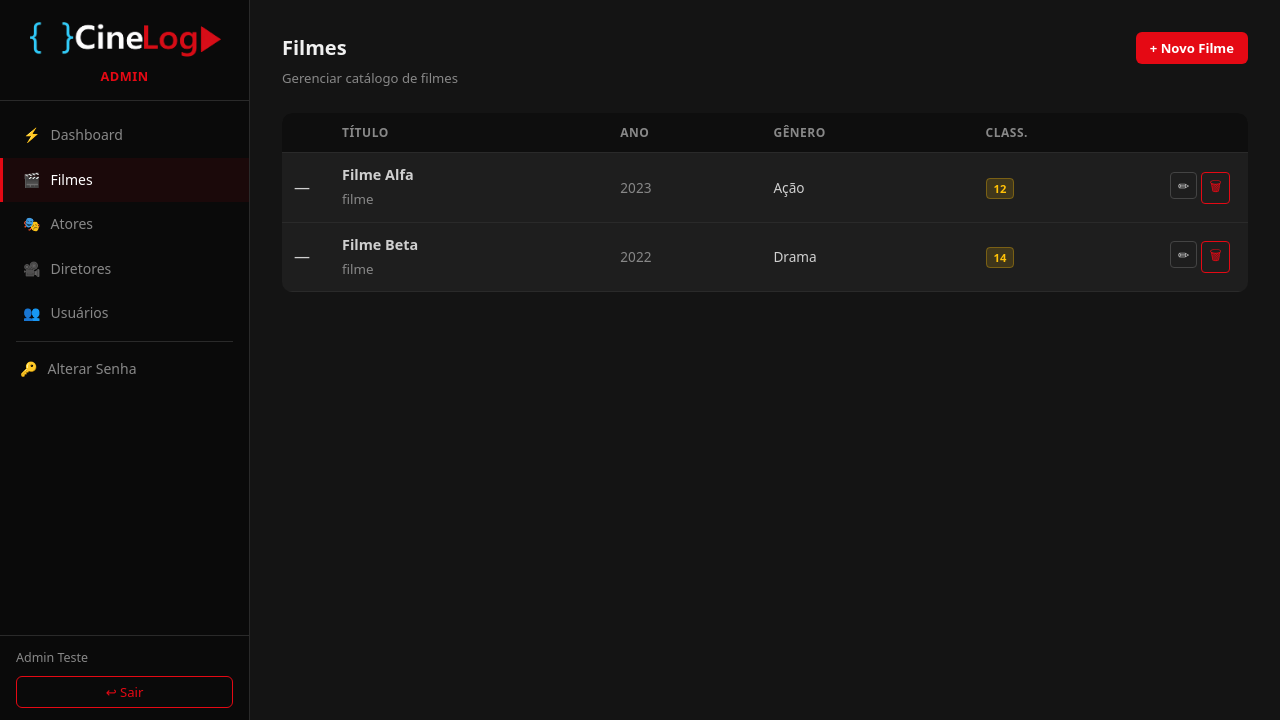
it: Admin React — Filmes: editar › abre modal de edição com dados preenchidos ao clicar em ✏
Click the button titled "Editar" in the row of "Filme Alfa" at coordinates (1184, 186), box [1170,172,1197,199]
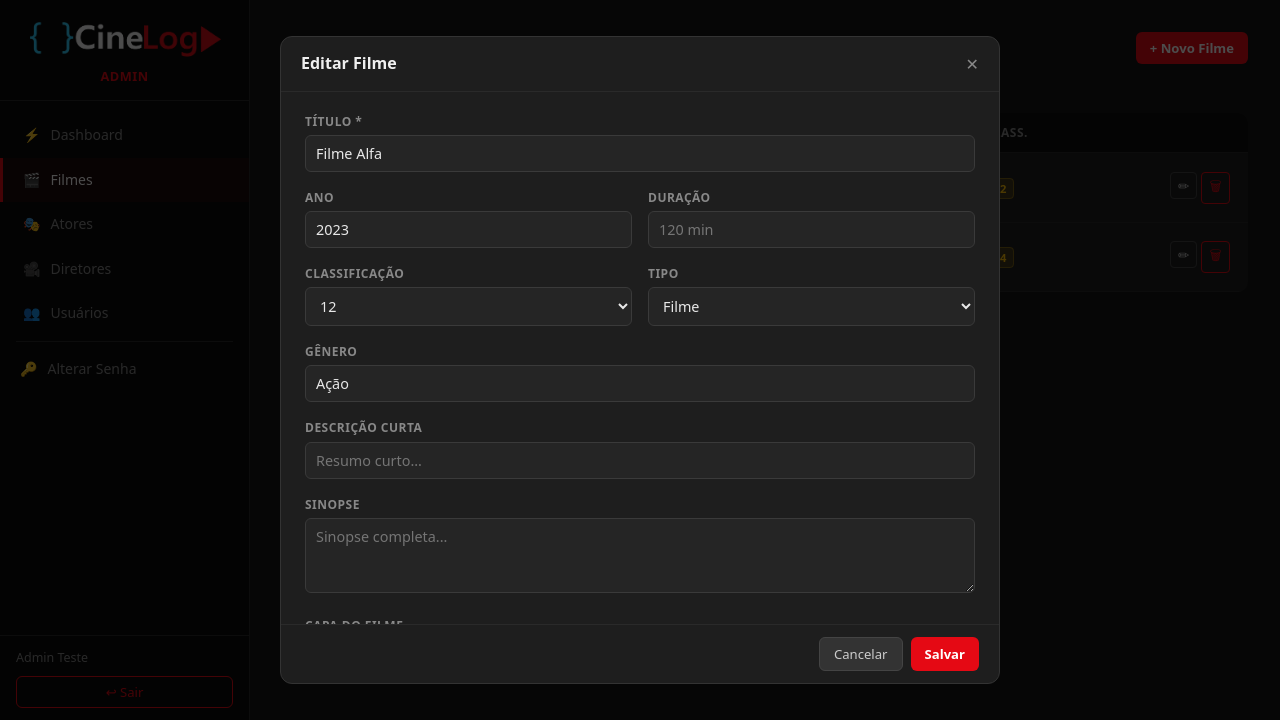
Result: the text "Editar Filme" is shown at [301,51,397,77]
Result: the field with placeholder "Nome do filme" below "TÍTULO *" holds "Filme Alfa" at [305,135,975,172]
